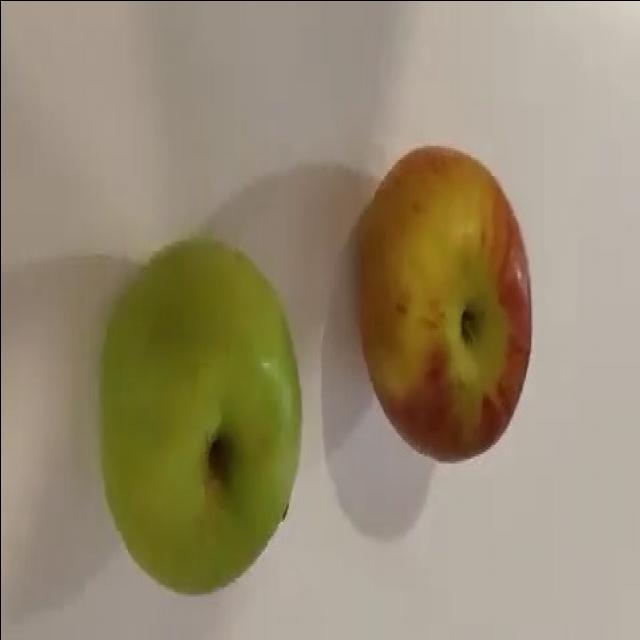Apple: (96, 232, 302, 601), (353, 142, 536, 469)
